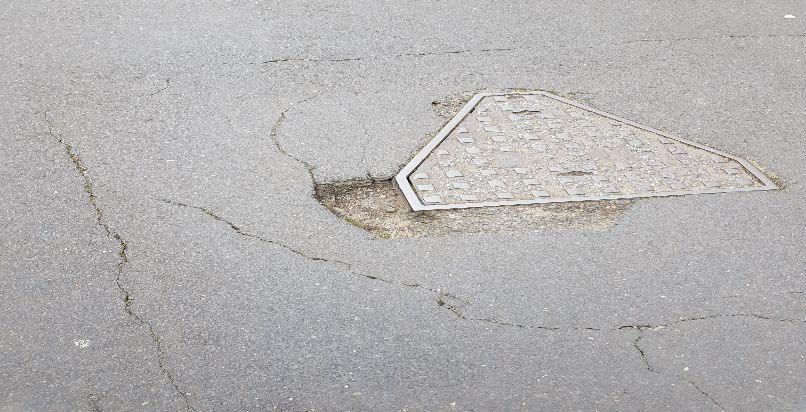pothole: (309, 178, 637, 245)
